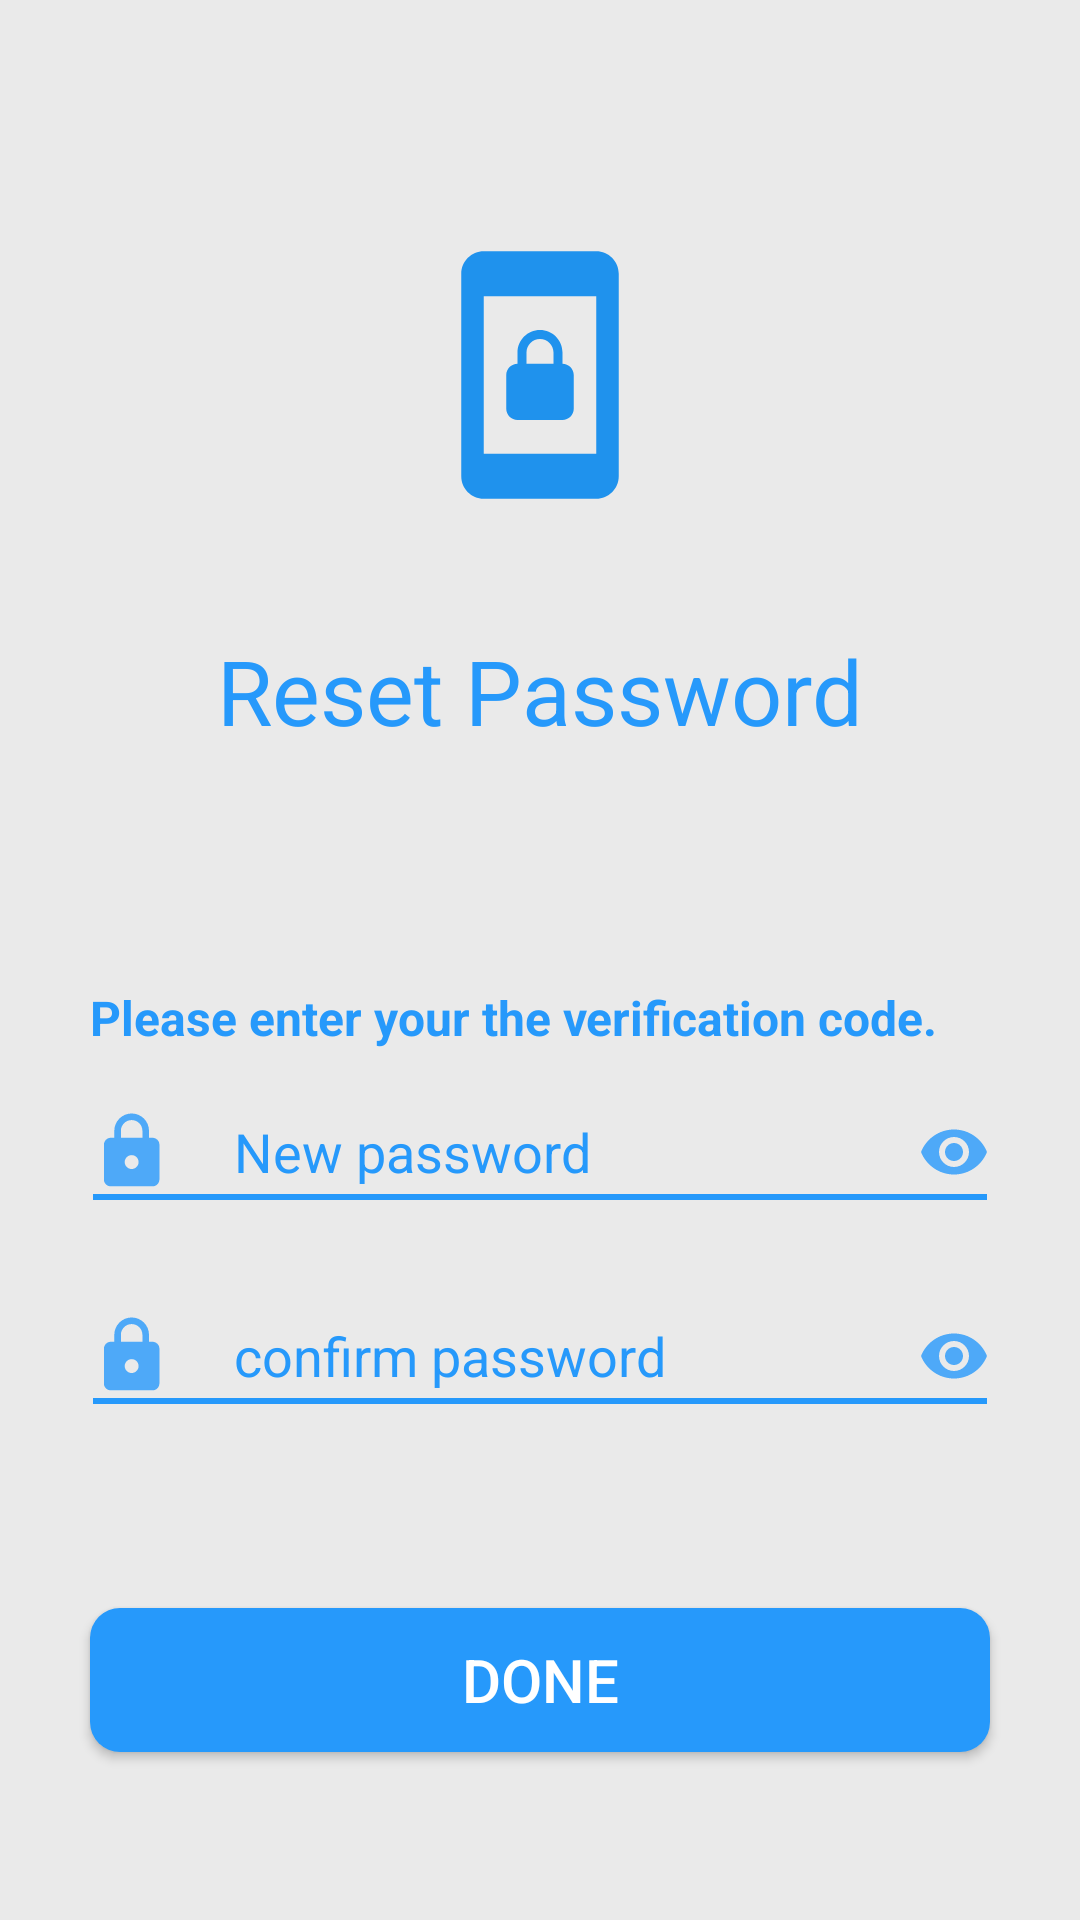

Where to tap for icons on this 1080×1920 app screen, as point (x, y):
screen lock portrait: point (540, 375)
